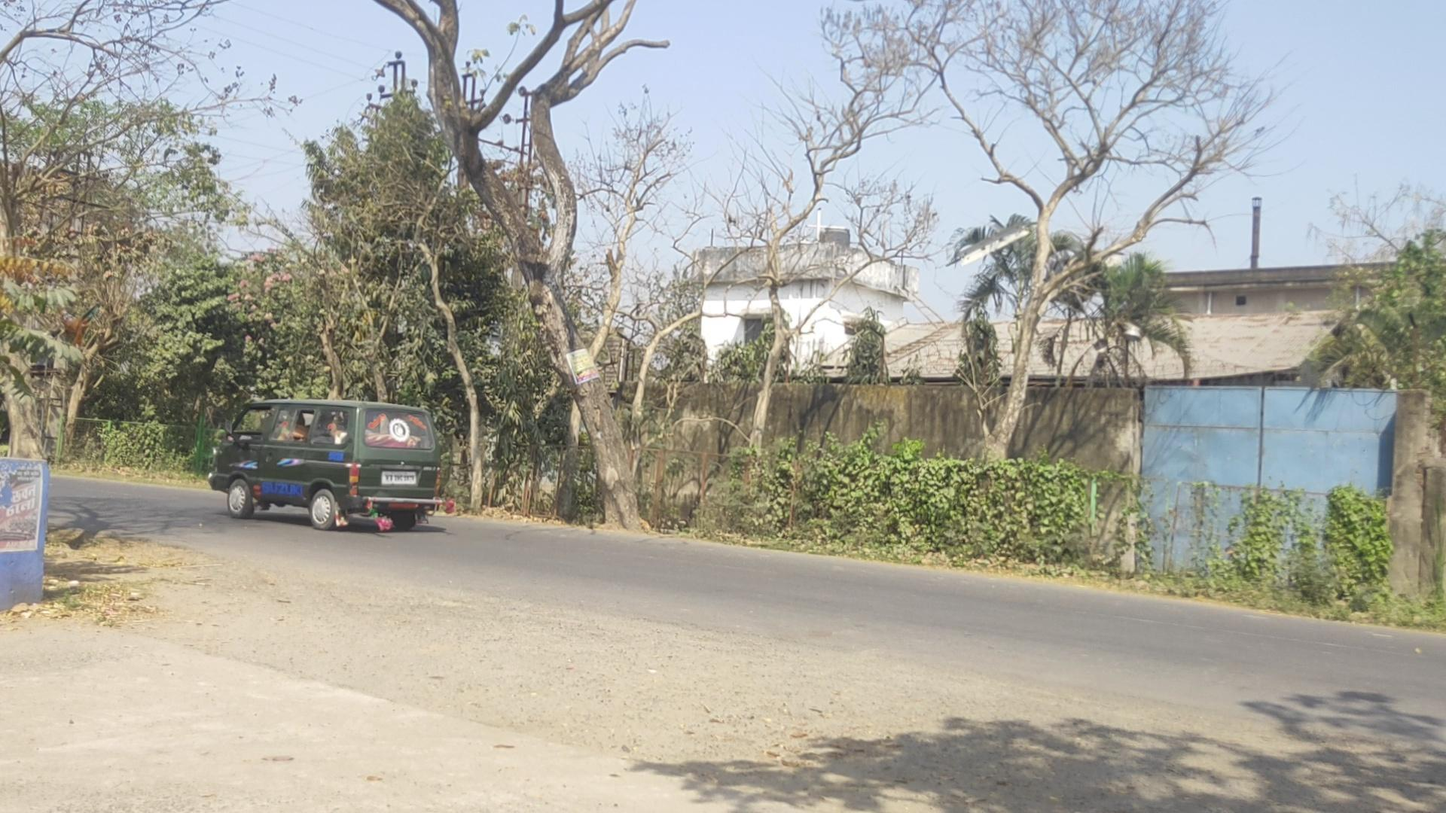van: (208, 398, 443, 531)
